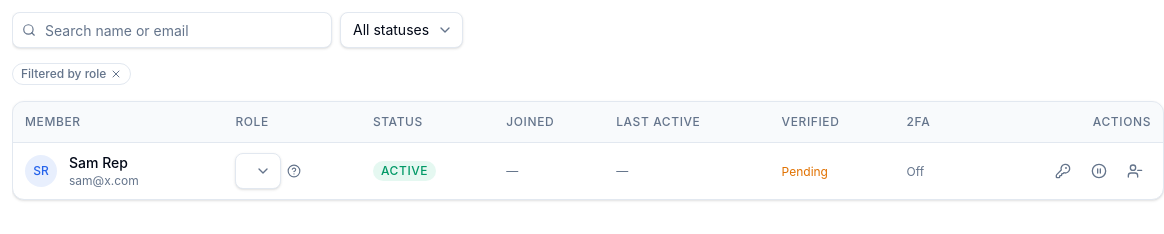
Test: MembersList — role filter & badges › shows an escapable "Filtered by role" chip when ?role= is set but options failed
The width and height of the screenshot is (1164, 234).
Check: the text "Filtered by role" is shown, box [12,63,131,85]
Check: the text "Ada Admin" is not shown
Click the button named "Clear role filter" at x=116, y=74, box [110,68,122,80]
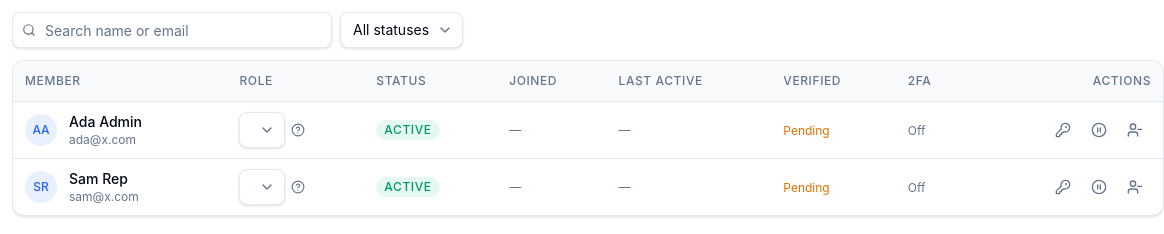
Check: the button "Sam Rep" is shown, box [69,168,128,188]
Check: the text "Filtered by role" is gone
Check: the button "Ada Admin" is shown, box [69,112,142,132]
